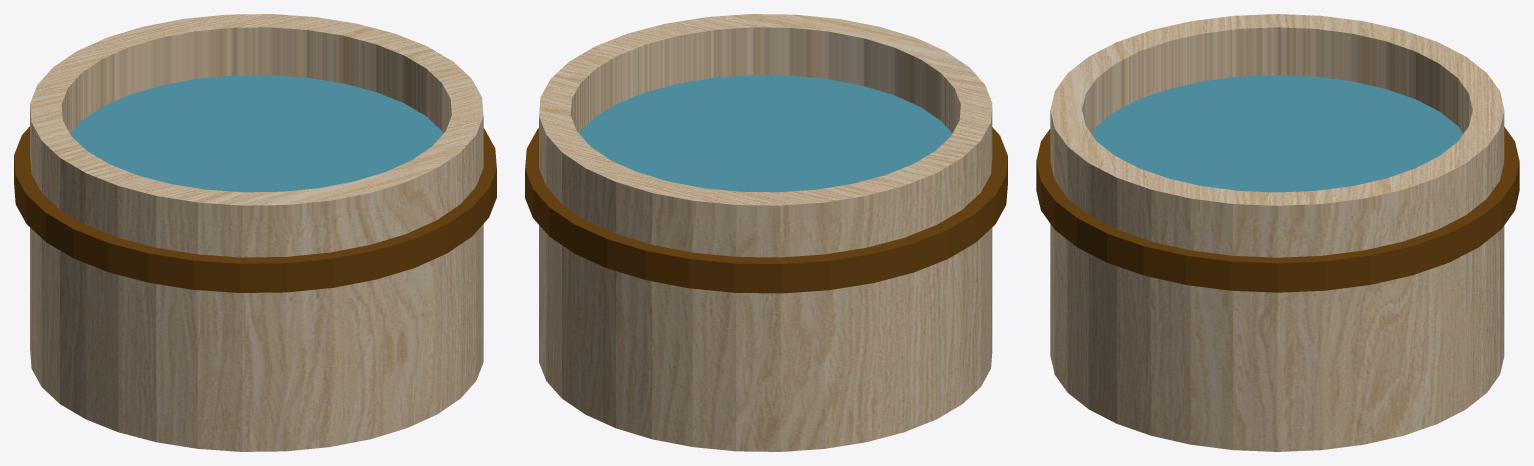
Rendered from Wooden Bucket.fbx.
The picture shows the model from 3 angles, left to right: view 1: azimuth 30°, elevation 25°; view 2: azimuth 150°, elevation 25°; view 3: azimuth 270°, elevation 25°; orthographic projection.
Parts seen in each view (by area): view 1: Wooden Bucket; view 2: Wooden Bucket; view 3: Wooden Bucket.
Part boxes in pixels (bbox=[...]): Wooden Bucket: bbox=[14, 14, 496, 451]; Wooden Bucket: bbox=[525, 14, 1007, 451]; Wooden Bucket: bbox=[1036, 14, 1519, 451].
Size of the model in its own units: 39.46 by 22.17 by 39.46.
